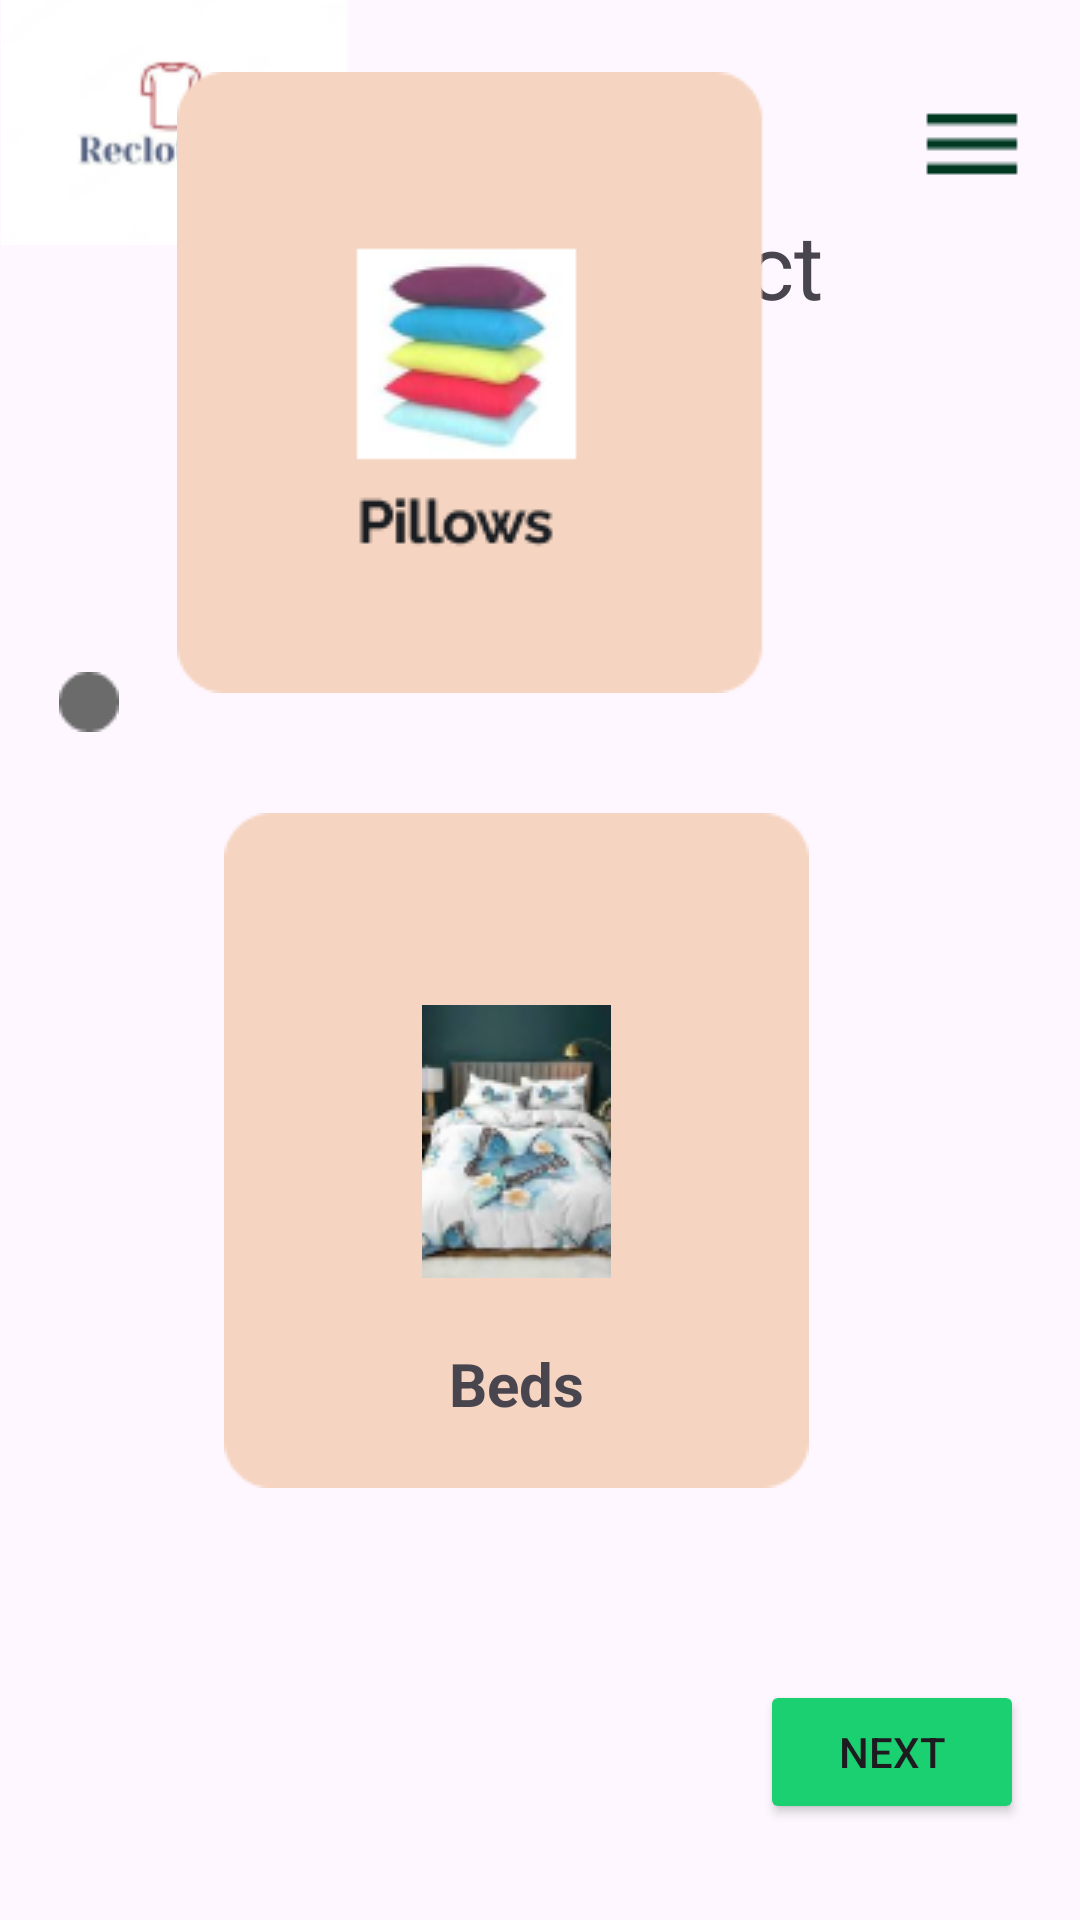

Icons on this 1080w x 1920h Android screen, each with the point to tap as (x=x, y=y):
menu: (x=972, y=144)
